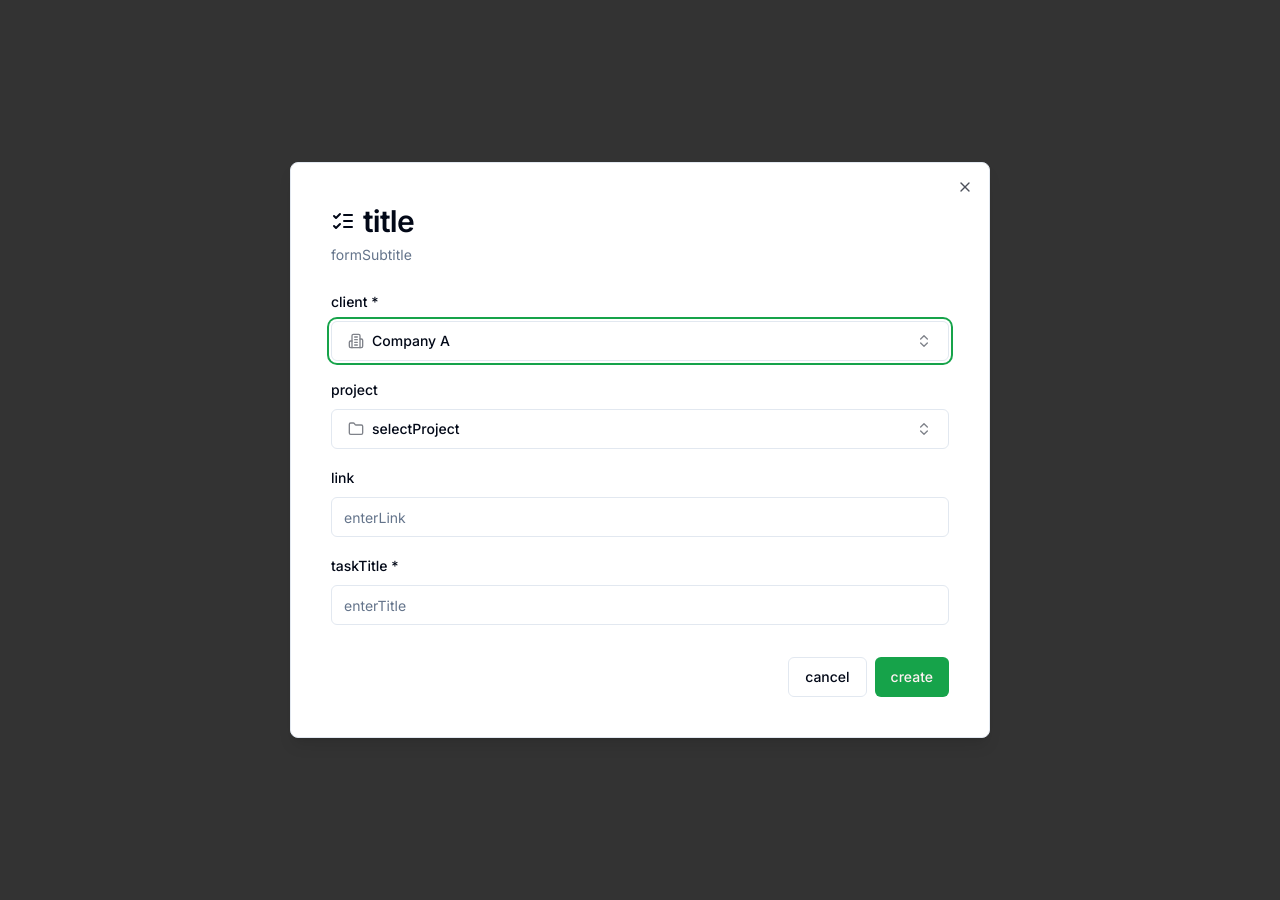
Test: TaskCreateDialog › the suggested title remains freely editable
Type "https://acme.atlassian.net/browse/PROJ-123" into the field with placeholder "enterLink" at (640, 517), box [331,497,949,537]
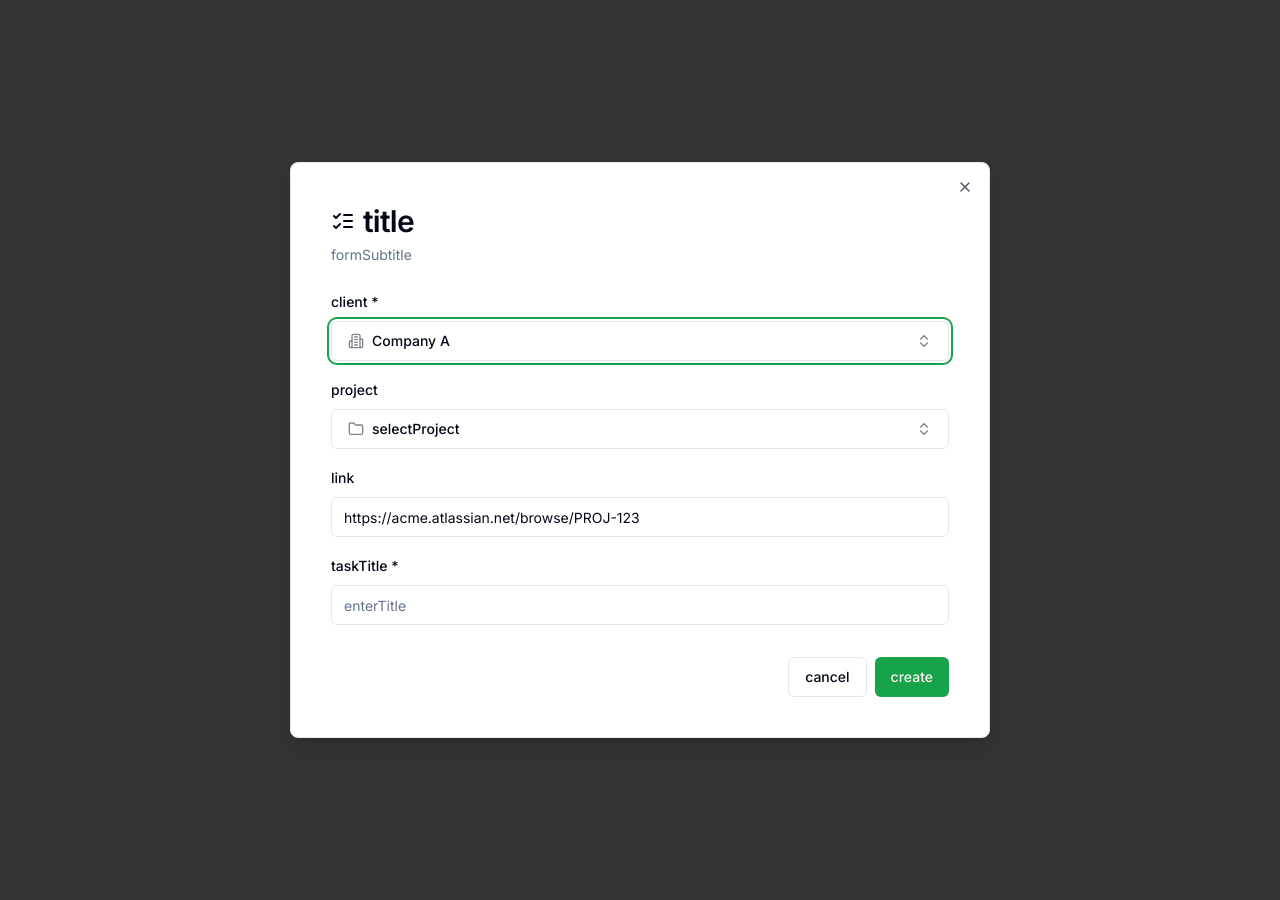
Leave the field with placeholder "enterLink", box [331,497,949,537]
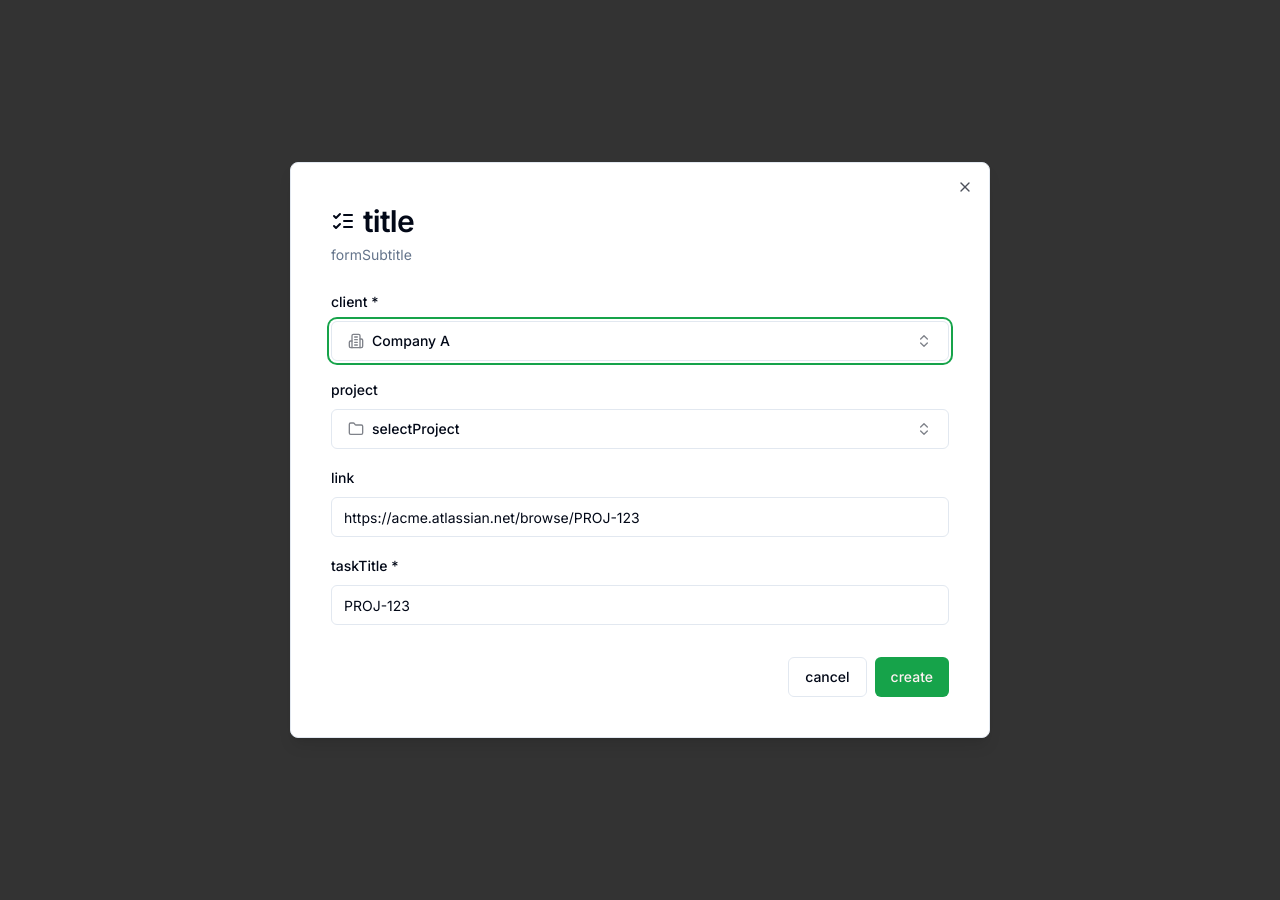
Check: the field with placeholder "enterTitle" holds "PROJ-123"
Type ": fix broken login" into the field with placeholder "enterTitle" at (640, 605), box [331,585,949,625]
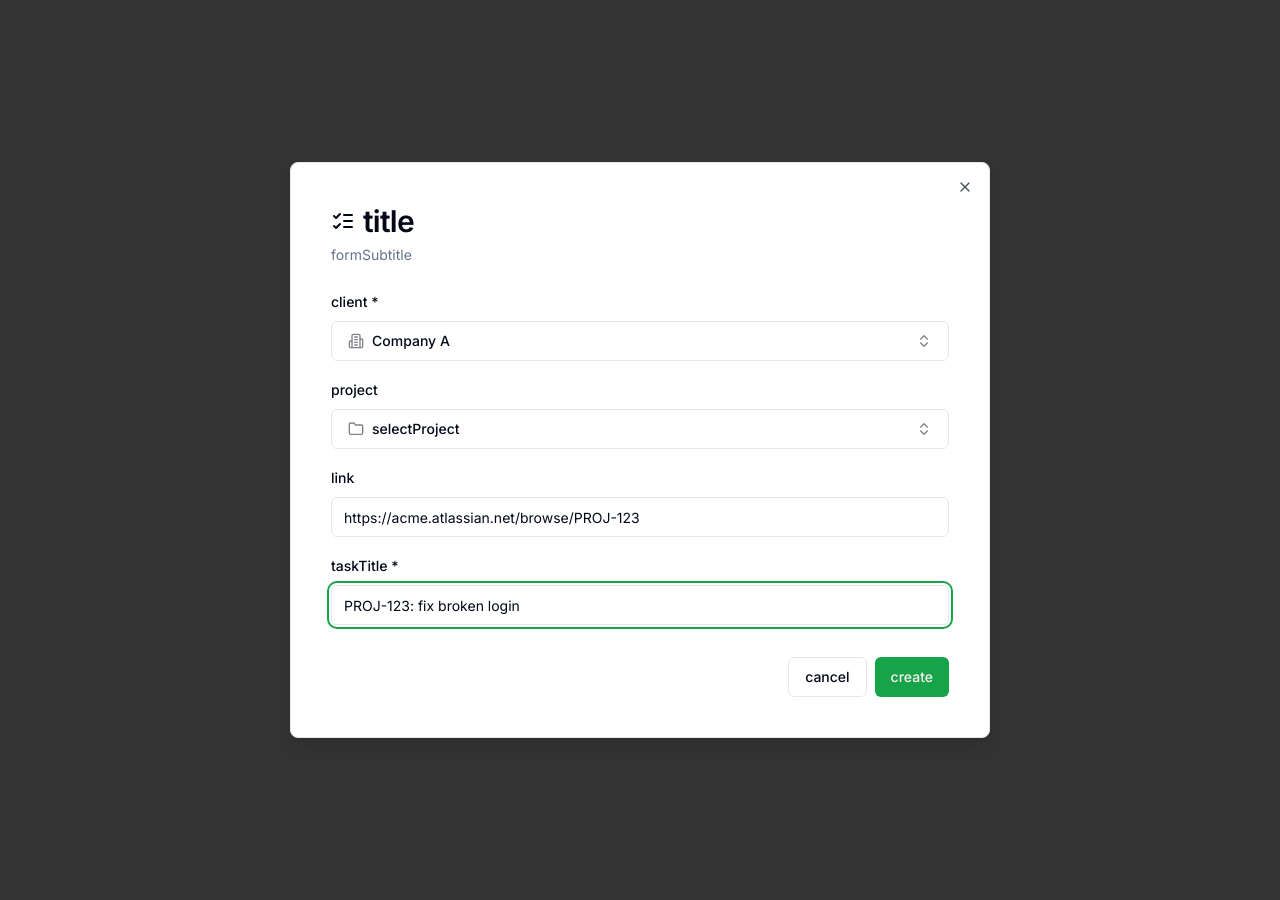
Check: the field with placeholder "enterTitle" holds "PROJ-123: fix broken login", box [331,585,949,625]
